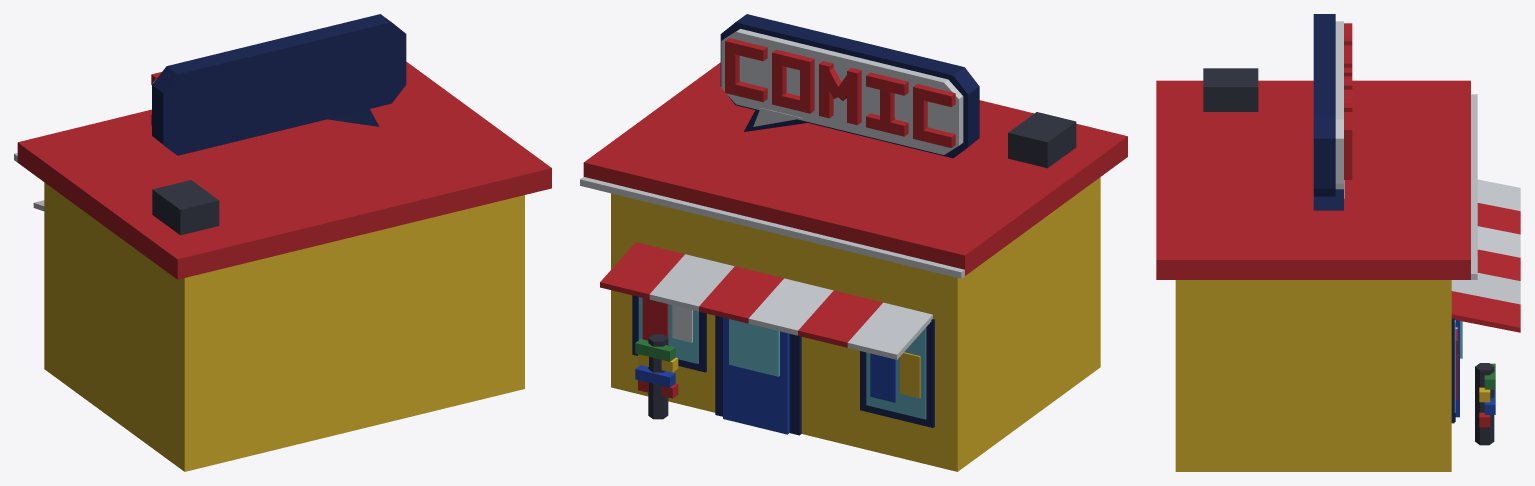
The model's file is Decor_HeroHQ_Comic.fbx.
3 views of the same model, side by side, from view 1: azimuth 30°, elevation 25°; view 2: azimuth 150°, elevation 25°; view 3: azimuth 270°, elevation 25° (orthographic). The views are drawn at different scales.
Parts seen in each view (by area): view 1: Comic_Body; view 2: Comic_Body; view 3: Comic_Body.
Boxes of the visible parts, x1,y1,x2,y2 form: Comic_Body: [14, 14, 551, 471]; Comic_Body: [580, 14, 1127, 471]; Comic_Body: [1156, 14, 1520, 471].
Size of the model in its own units: 15.4 by 13 by 13.2.
